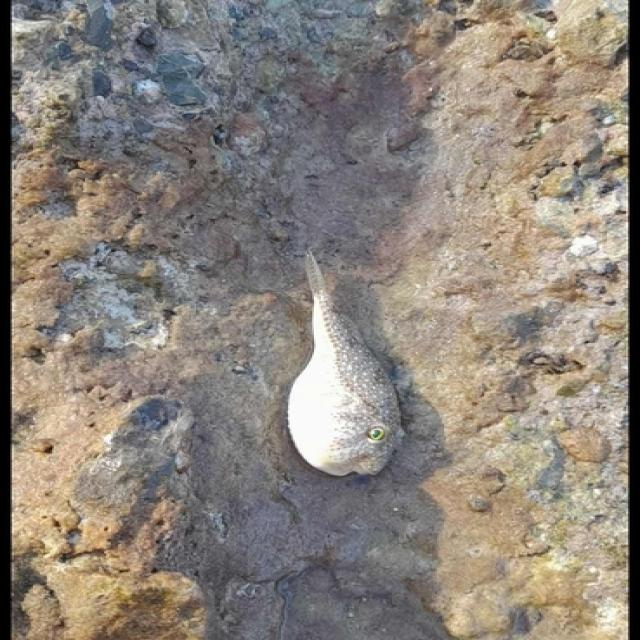Balik: (288, 251, 404, 476)
